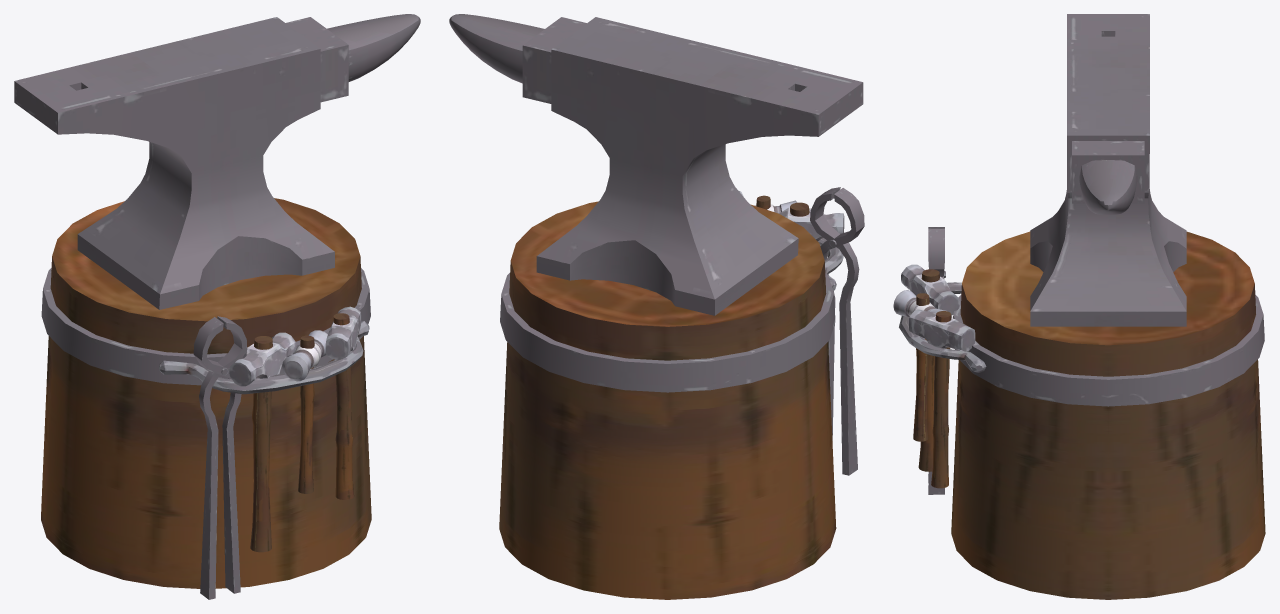
The model's file is Anvil_Log.gltf.
The picture shows the model from 3 angles, left to right: view 1: azimuth 30°, elevation 25°; view 2: azimuth 150°, elevation 25°; view 3: azimuth 270°, elevation 25°; orthographic projection. The views are drawn at different scales.
Parts seen in each view (by area): view 1: Anvil_Log; view 2: Anvil_Log; view 3: Anvil_Log.
Part boxes in pixels (box(x1,y1,x2,y2)): Anvil_Log: box(14, 14, 420, 599); Anvil_Log: box(449, 14, 864, 599); Anvil_Log: box(893, 14, 1265, 599).
Bounding box in the file's own units: 0.9293 × 1.07 × 0.8214.
Materials: 3 (3 with a texture image).
